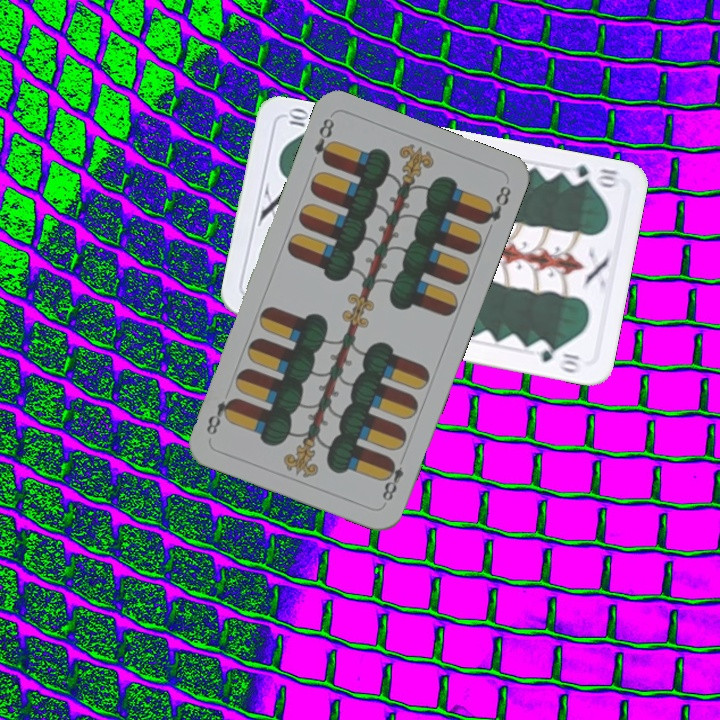E8: (377, 454, 407, 504), (309, 114, 337, 167)
G10: (562, 160, 622, 191)
